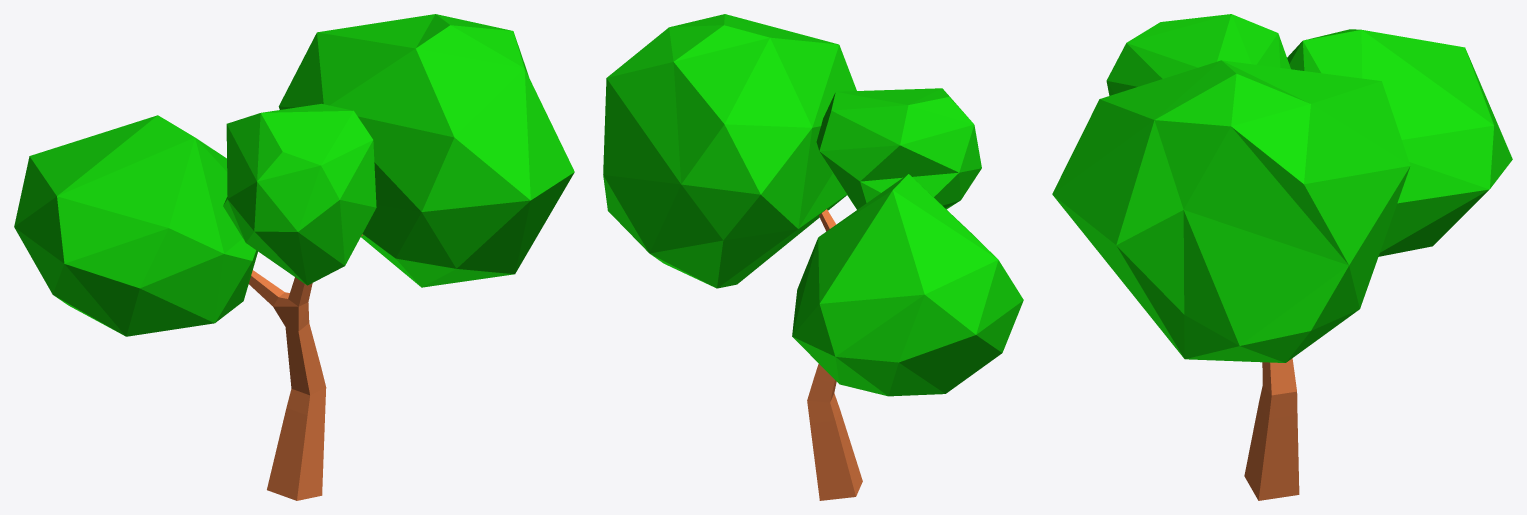
File: Pohon Ga fix.fbx
The picture shows the model from 3 angles, left to right: view 1: azimuth 30°, elevation 25°; view 2: azimuth 150°, elevation 25°; view 3: azimuth 270°, elevation 25°; orthographic projection. The views are drawn at different scales.
Parts seen in each view (by area): view 1: Icosphere.001, Icosphere.002, Icosphere, Plane; view 2: Icosphere.001, Icosphere.002, Icosphere, Plane; view 3: Icosphere.001, Icosphere.002, Icosphere, Plane.
Boxes of the visible parts, left/top/right/bottom form: Icosphere.001: left=278, top=14, right=574, bottom=287; Icosphere.002: left=14, top=115, right=257, bottom=336; Icosphere: left=223, top=103, right=376, bottom=285; Plane: left=249, top=234, right=363, bottom=500; Icosphere.001: left=603, top=14, right=856, bottom=288; Icosphere.002: left=792, top=174, right=1023, bottom=396; Icosphere: left=816, top=88, right=981, bottom=209; Plane: left=807, top=209, right=862, bottom=500; Icosphere.001: left=1052, top=60, right=1410, bottom=362; Icosphere.002: left=1287, top=29, right=1512, bottom=256; Icosphere: left=1106, top=14, right=1290, bottom=95; Plane: left=1244, top=358, right=1299, bottom=500.
Size of the model in its own units: 1588 by 1534 by 1306.
